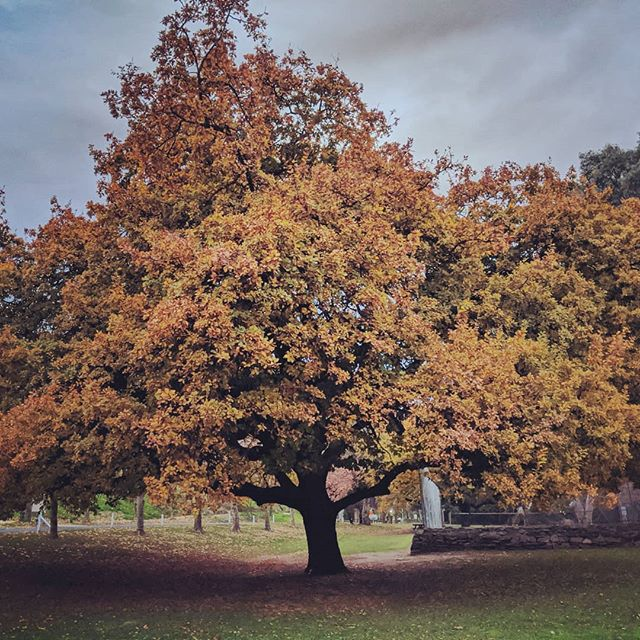grass: (12, 552, 640, 640)
sky: (1, 3, 640, 152)
tree: (14, 16, 599, 557)
